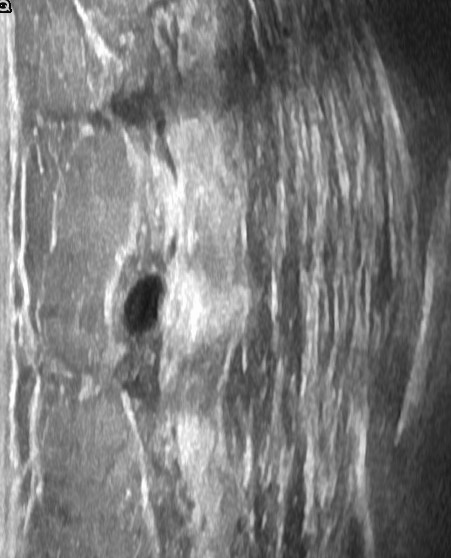Benign: (115, 270, 169, 338)
